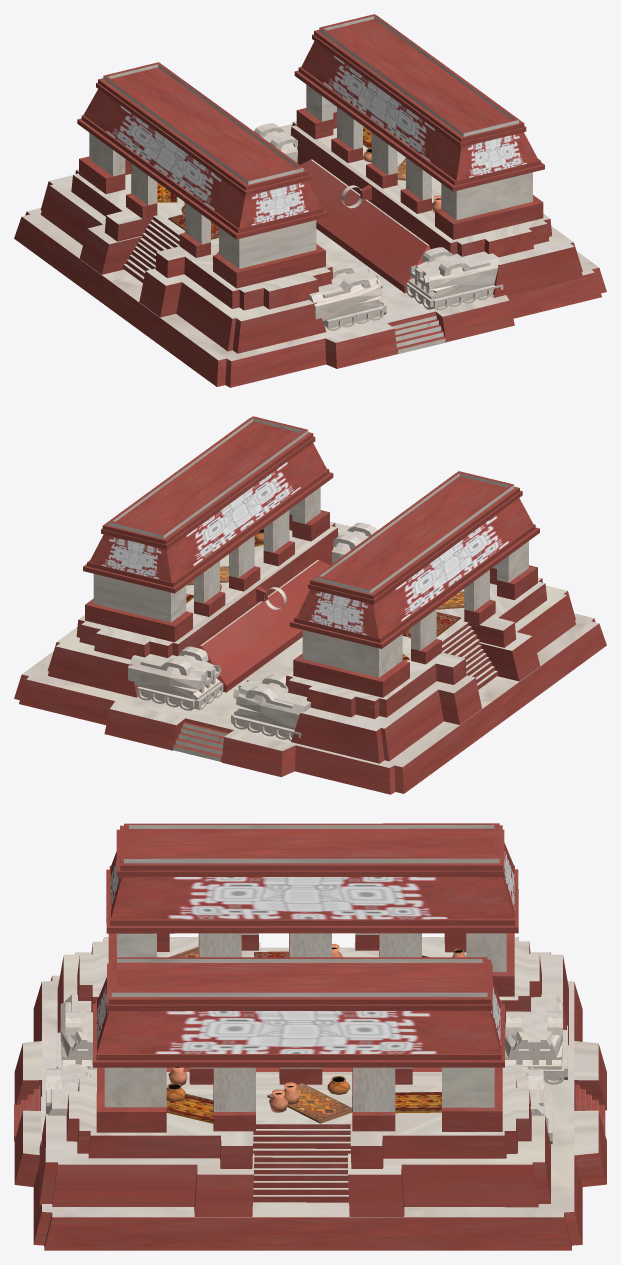
Rendered from ball_2.dae.
3 views of the same model, one above another, from view 1: azimuth 30°, elevation 25°; view 2: azimuth 150°, elevation 25°; view 3: azimuth 270°, elevation 25° (orthographic). The views are drawn at different scales.
Parts seen in each view (by area): view 1: b_2; view 2: b_2; view 3: b_2.
Boxes of the visible parts, box(x1,y1,x2,y2) form: b_2: box(14, 14, 606, 387); b_2: box(14, 416, 606, 794); b_2: box(14, 823, 606, 1250).
Bounding box in the file's own units: 32.94 × 33.35 × 13.58.
